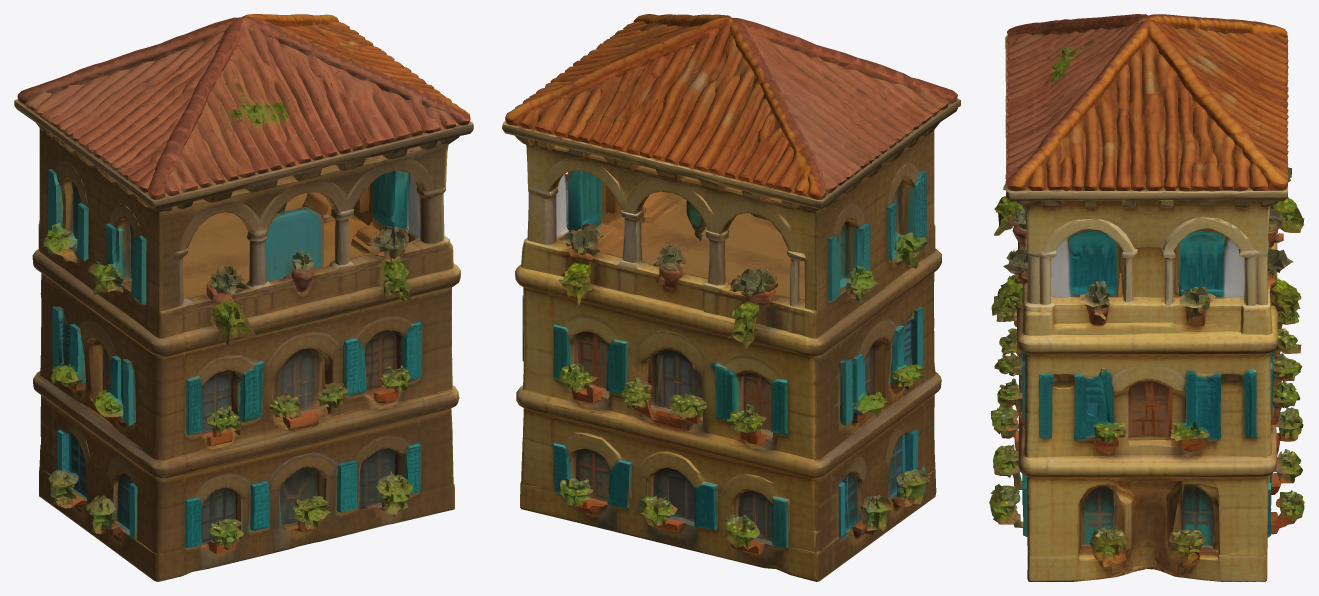
Rendered from jer_apartment_c.glb.
3 views of the same model, side by side, from view 1: azimuth 30°, elevation 25°; view 2: azimuth 150°, elevation 25°; view 3: azimuth 270°, elevation 25° (orthographic).
Visible parts, largest first — view 1: geometry_0; view 2: geometry_0; view 3: geometry_0.
Part boxes in pixels (bbox=[...]): geometry_0: bbox=[14, 14, 473, 581]; geometry_0: bbox=[502, 14, 960, 581]; geometry_0: bbox=[989, 14, 1304, 581].
Bounding box in the file's own units: 9.17 × 12 × 7.01.
Materials: 1 (1 with a texture image).
